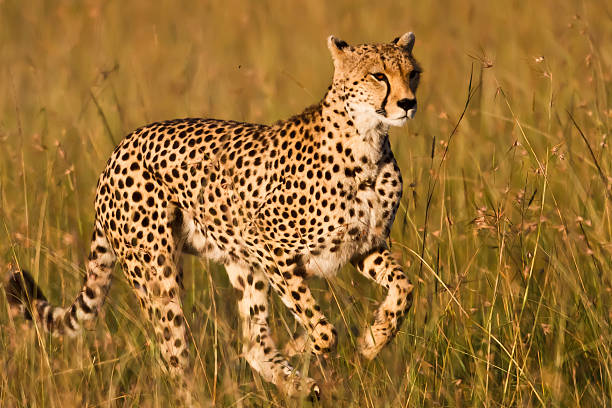cheetah: (312, 24, 440, 148)
